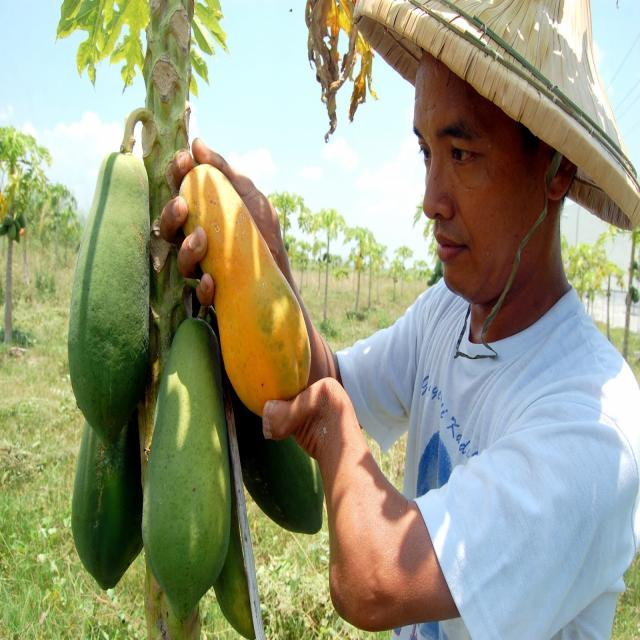Pepaya rippen: (192, 168, 332, 422)
Pepaya unrippen: (148, 320, 252, 608), (68, 153, 167, 408), (67, 412, 154, 604)
